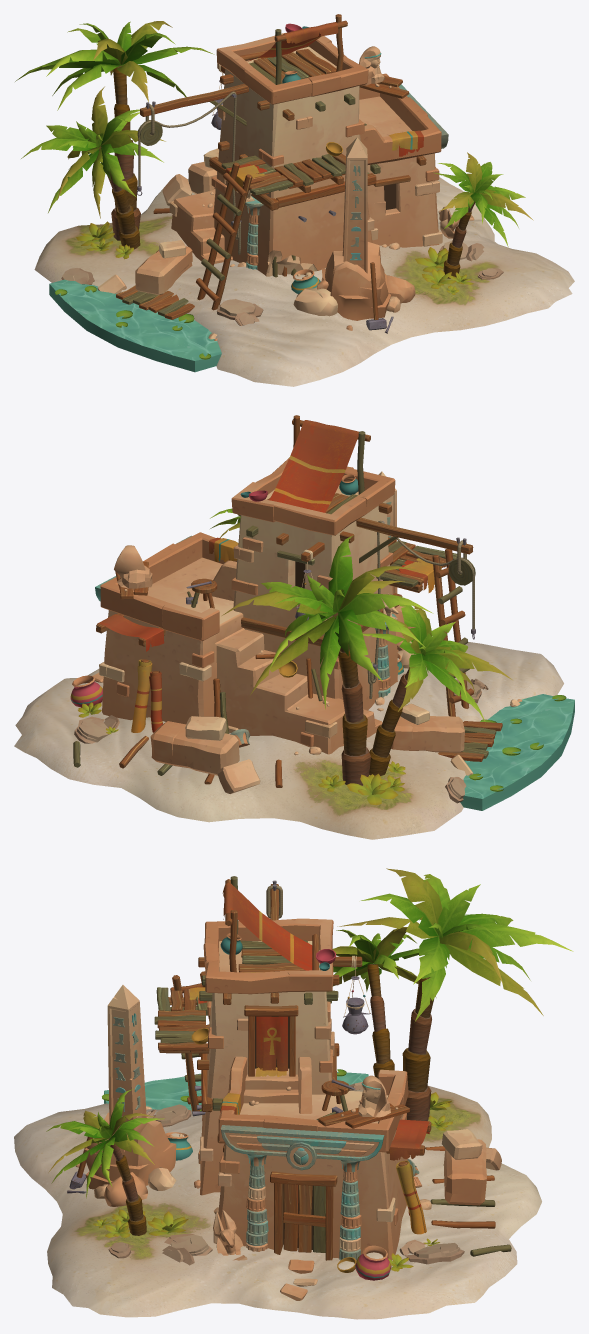
File: 1DAE14_Braeckman_Gert_GameArtExam.fbx
The picture shows the model from 3 angles, top to bottom: view 1: azimuth 30°, elevation 25°; view 2: azimuth 150°, elevation 25°; view 3: azimuth 270°, elevation 25°; orthographic projection. The views are drawn at different scales.
Parts seen in each view (by area): view 1: diorama; view 2: diorama; view 3: diorama.
Boxes of the visible parts, left/top/right/bottom form: diorama: left=15, top=14, right=574, bottom=386; diorama: left=14, top=415, right=574, bottom=839; diorama: left=14, top=868, right=573, bottom=1319.
Bounding box in the file's own units: 803 × 478 × 798.
Materials: 2 (2 with a texture image).
